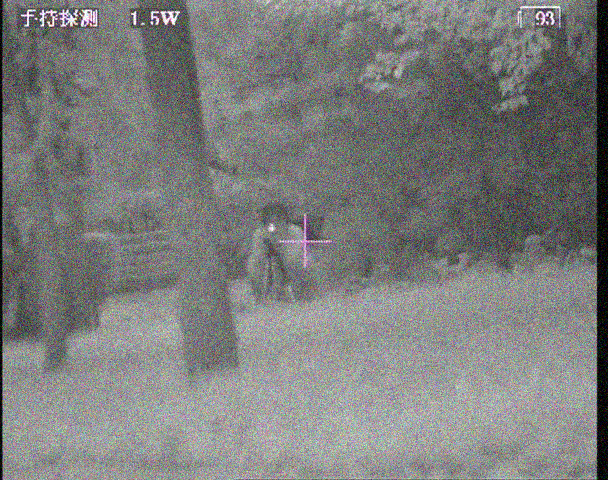my: (266, 222, 276, 235)
